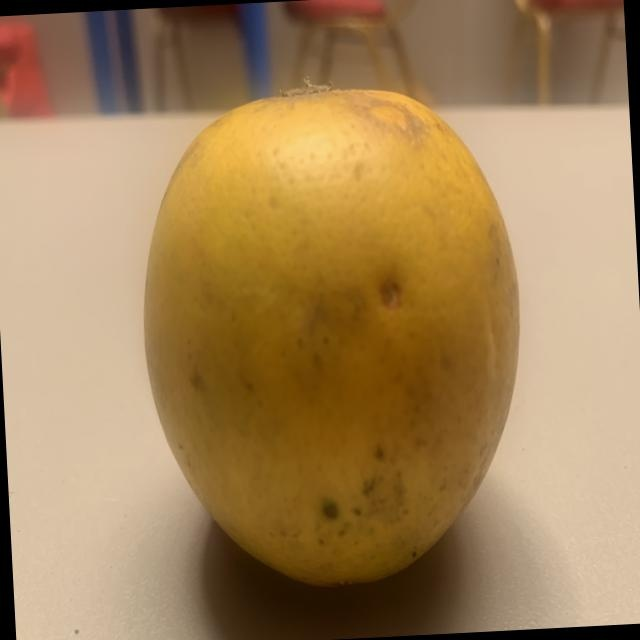agrume: (121, 63, 562, 602)
